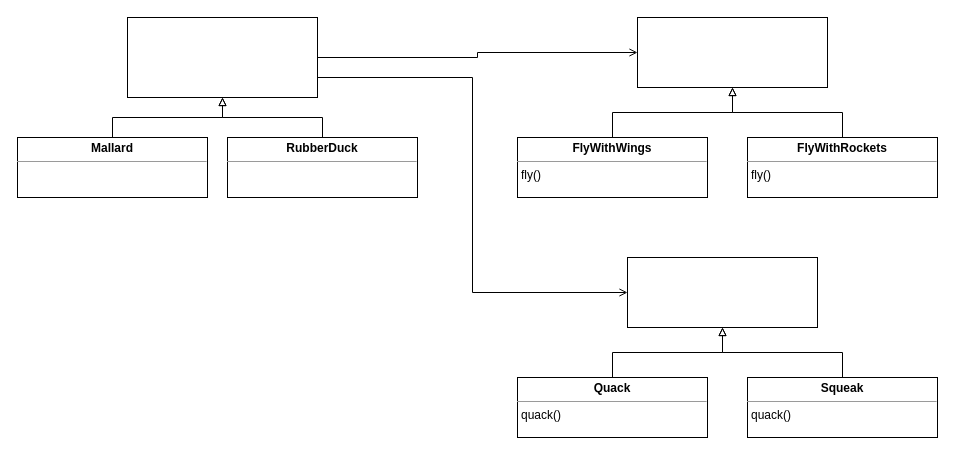
Image size: 955x455. Some labels were removed from this diagram. The shapes that lost their labels are listed below. From the top down, each one's centre as x and y in pixels, then its label:
At (x=222, y=57): "<<abstract>> Duck fly: FlyBehaviour quack: QuackBehaviour".
At (x=732, y=52): "<<Interface>> FlyBehviour fly()".
At (x=722, y=292): "<<Interface>> QuackBehaviour quack()".
